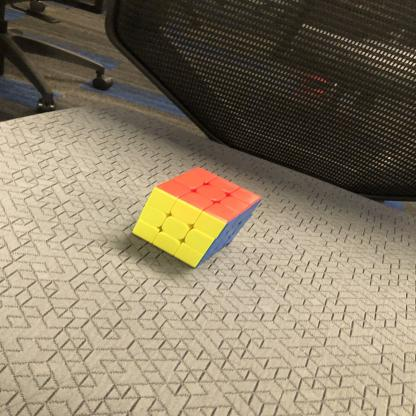SolvedCube: (131, 168, 264, 268)
